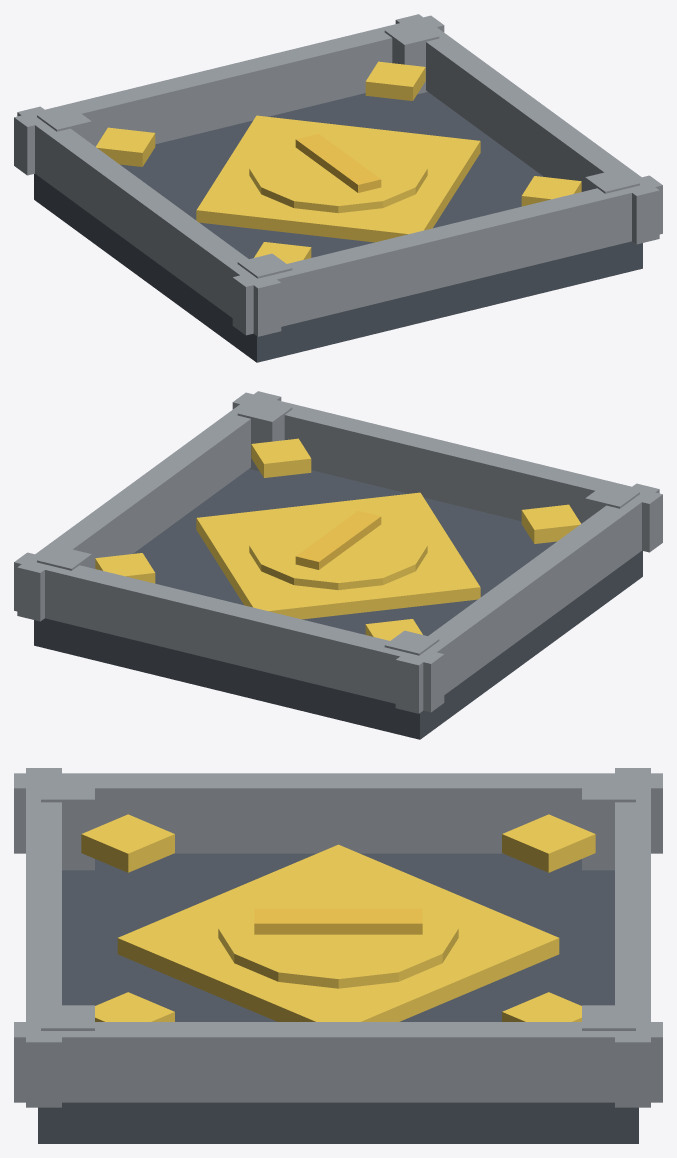
The model's file is TD_GoldTile.fbx.
The picture shows the model from 3 angles, top to bottom: view 1: azimuth 30°, elevation 25°; view 2: azimuth 150°, elevation 25°; view 3: azimuth 270°, elevation 25°; orthographic projection. The views are drawn at different scales.
Parts seen in each view (by area): view 1: TD_GoldTile_Rail_South, TD_GoldTile_BasePlate, TD_GoldTile_Rail_North, TD_GoldTile_Surface, TD_GoldTile_Rail_West, TD_GoldTile_GoldSurfaceInset, TD_GoldTile_Rail_East, TD_GoldTile_GoldCoinMarker, TD_GoldTile_GoldCoinBar, TD_GoldTile_GoldCornerAccent_04, TD_GoldTile_GoldCornerAccent_03, TD_GoldTile_Corner_NE (+5 smaller); view 2: TD_GoldTile_Rail_North, TD_GoldTile_BasePlate, TD_GoldTile_Rail_South, TD_GoldTile_Surface, TD_GoldTile_Rail_West, TD_GoldTile_GoldSurfaceInset, TD_GoldTile_Rail_East, TD_GoldTile_GoldCoinMarker, TD_GoldTile_GoldCoinBar, TD_GoldTile_GoldCornerAccent_02, TD_GoldTile_GoldCornerAccent_01, TD_GoldTile_Corner_SE (+5 smaller); view 3: TD_GoldTile_Rail_East, TD_GoldTile_Rail_West, TD_GoldTile_BasePlate, TD_GoldTile_Surface, TD_GoldTile_GoldSurfaceInset, TD_GoldTile_GoldCoinMarker, TD_GoldTile_Rail_North, TD_GoldTile_Rail_South, TD_GoldTile_GoldCoinBar, TD_GoldTile_GoldCornerAccent_01, TD_GoldTile_GoldCornerAccent_03, TD_GoldTile_Corner_NW (+5 smaller).
Part boxes in pixels (box(x1,y1,x2,y2)): TD_GoldTile_Rail_South: box(232, 175, 662, 335); TD_GoldTile_BasePlate: box(34, 92, 642, 362); TD_GoldTile_Rail_North: box(14, 15, 444, 175); TD_GoldTile_Surface: box(120, 95, 531, 258); TD_GoldTile_Rail_West: box(17, 106, 281, 336); TD_GoldTile_GoldSurfaceInset: box(196, 115, 480, 242); TD_GoldTile_Rail_East: box(395, 14, 659, 244); TD_GoldTile_GoldCoinMarker: box(249, 130, 427, 213); TD_GoldTile_GoldCoinBar: box(295, 133, 381, 192); TD_GoldTile_GoldCornerAccent_04: box(365, 61, 425, 100); TD_GoldTile_GoldCornerAccent_03: box(96, 127, 155, 166); TD_GoldTile_Corner_NE: box(384, 22, 439, 94); TD_GoldTile_Rail_North: box(14, 552, 444, 712); TD_GoldTile_BasePlate: box(34, 469, 642, 739); TD_GoldTile_Rail_South: box(232, 392, 662, 552); TD_GoldTile_Surface: box(145, 472, 556, 635); TD_GoldTile_Rail_West: box(395, 483, 659, 713); TD_GoldTile_GoldSurfaceInset: box(196, 492, 480, 619); TD_GoldTile_Rail_East: box(17, 391, 281, 621); TD_GoldTile_GoldCoinMarker: box(249, 507, 427, 590); TD_GoldTile_GoldCoinBar: box(295, 510, 381, 569); TD_GoldTile_GoldCornerAccent_02: box(251, 438, 311, 477); TD_GoldTile_GoldCornerAccent_01: box(521, 504, 580, 543); TD_GoldTile_Corner_SE: box(237, 399, 292, 471); TD_GoldTile_Rail_East: box(14, 1022, 662, 1102); TD_GoldTile_Rail_West: box(14, 773, 662, 853); TD_GoldTile_BasePlate: box(38, 853, 638, 1143); TD_GoldTile_Surface: box(98, 854, 578, 1021); TD_GoldTile_GoldSurfaceInset: box(117, 844, 559, 1021); TD_GoldTile_GoldCoinMarker: box(218, 877, 458, 988); TD_GoldTile_Rail_North: box(615, 768, 650, 1107); TD_GoldTile_Rail_South: box(26, 768, 61, 1107); TD_GoldTile_GoldCoinBar: box(254, 908, 422, 934); TD_GoldTile_GoldCornerAccent_01: box(81, 814, 174, 872); TD_GoldTile_GoldCornerAccent_03: box(502, 814, 595, 872); TD_GoldTile_Corner_NW: box(582, 776, 635, 870).
Size of the model in its own units: 1.08 by 0.21 by 1.08.
